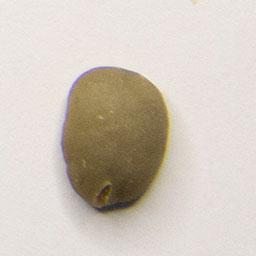premium: (56, 61, 173, 213)
